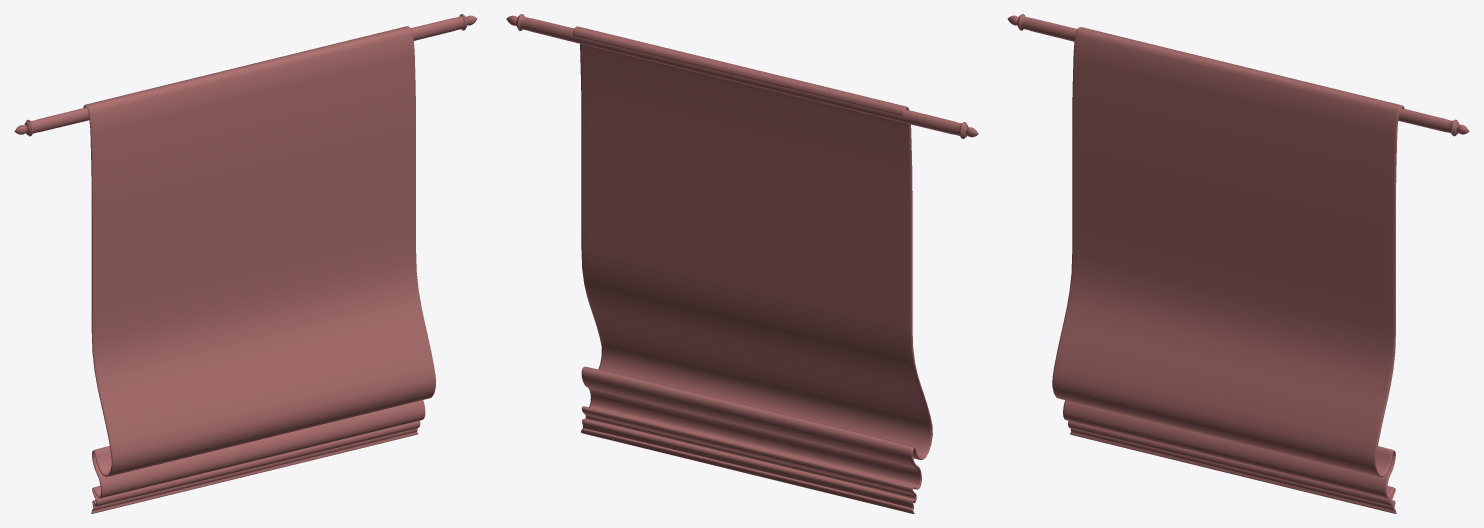
File: curtain_001.fbx
3 renders of one model, left to right at view 1: azimuth 30°, elevation 25°; view 2: azimuth 150°, elevation 25°; view 3: azimuth 330°, elevation 25°, orthographic. The views are drawn at different scales.
Parts seen in each view (by area): view 1: romanCurtain_GEO_001; view 2: romanCurtain_GEO_001; view 3: romanCurtain_GEO_001.
Boxes of the visible parts, box(x1,y1,x2,y2) form: romanCurtain_GEO_001: box(14, 14, 477, 513); romanCurtain_GEO_001: box(506, 14, 978, 513); romanCurtain_GEO_001: box(1007, 14, 1469, 513).
Size of the model in its own units: 143 by 119 by 15.99.
